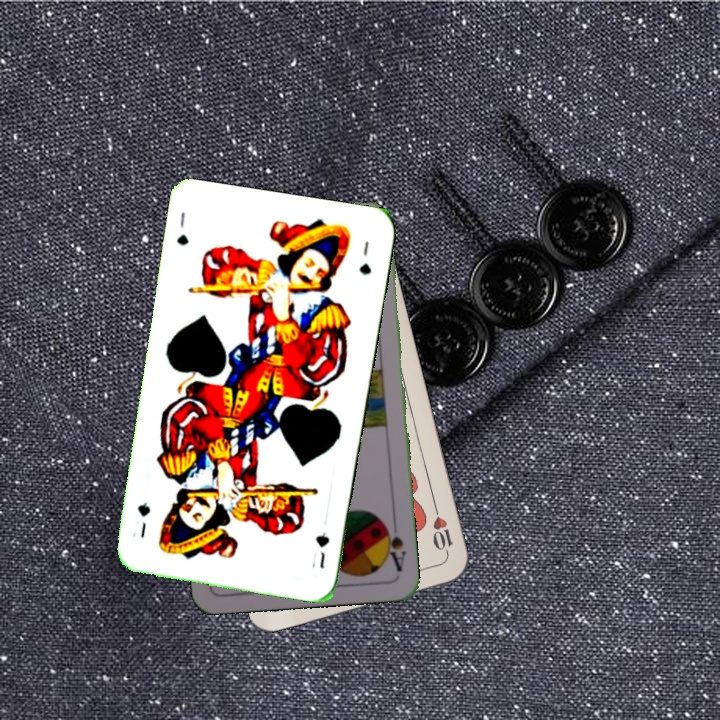GU: (311, 528, 332, 571), (173, 207, 191, 248)
H10: (428, 502, 456, 561)
SA: (380, 516, 409, 575)
